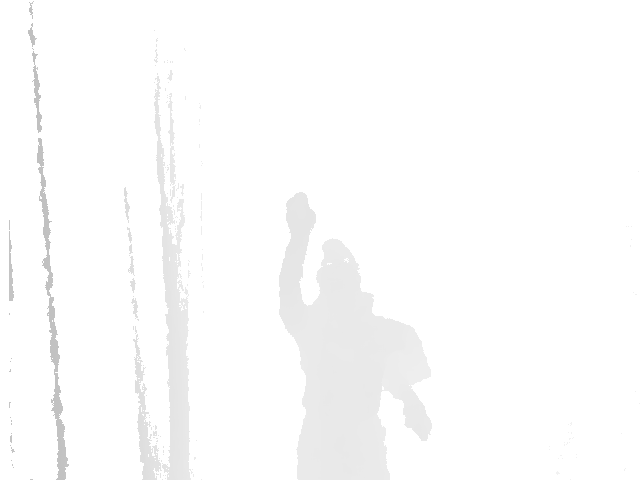hand: (282, 188, 316, 245)
head: (310, 238, 366, 308)
person: (277, 189, 435, 479)
